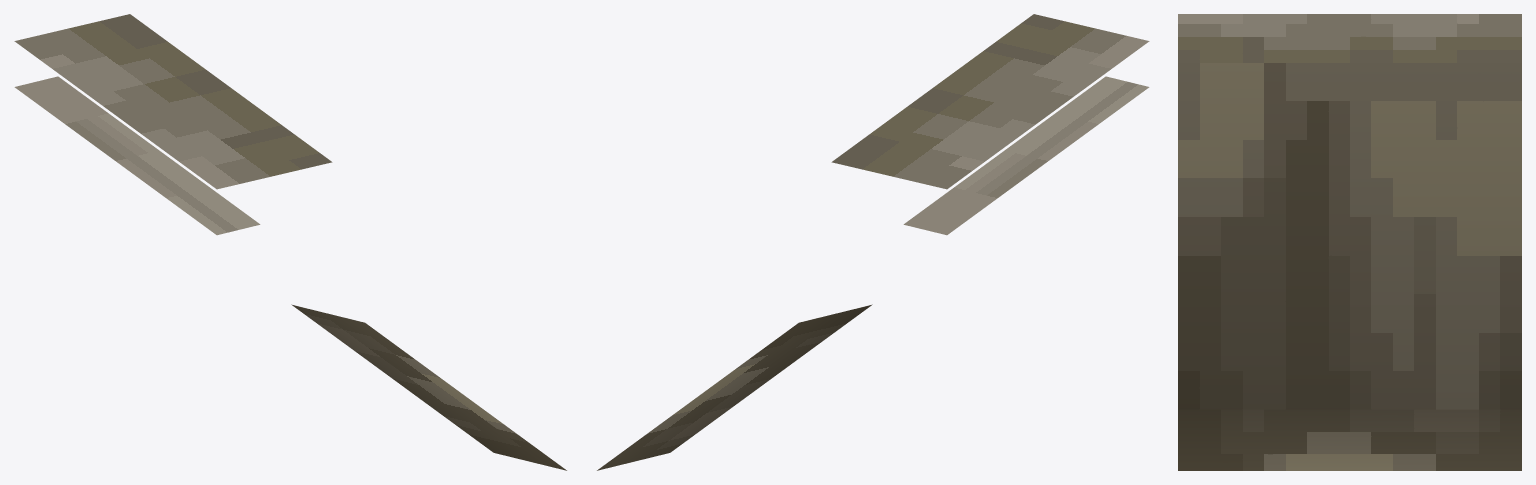
3 views of the same model, side by side, from view 1: azimuth 30°, elevation 25°; view 2: azimuth 150°, elevation 25°; view 3: azimuth 270°, elevation 25° (orthographic). The views are drawn at different scales.
Size of the model in its own units: 1 by 1 by 1.
2 materials, 2 textured.
